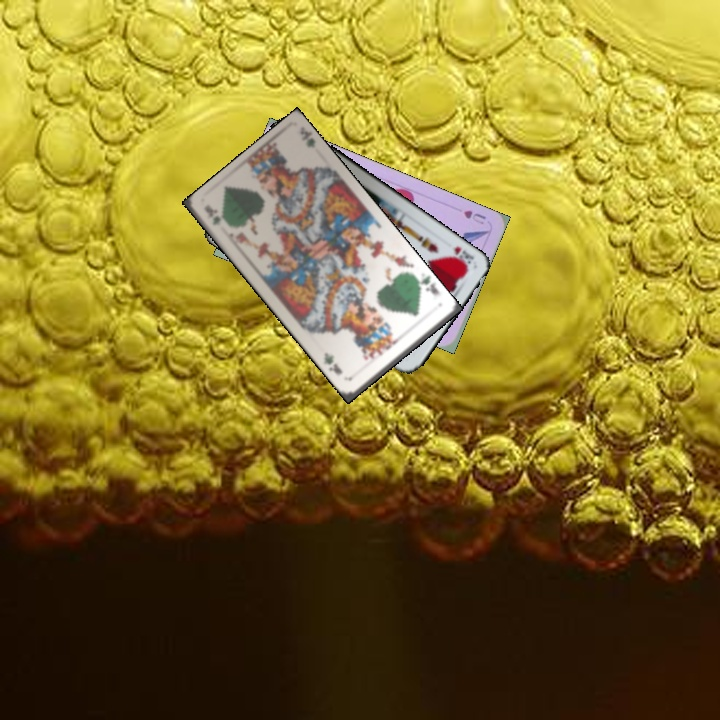GK: (412, 273, 442, 298), (203, 207, 223, 228)
HK: (449, 242, 477, 269)
HU: (459, 206, 488, 227)
